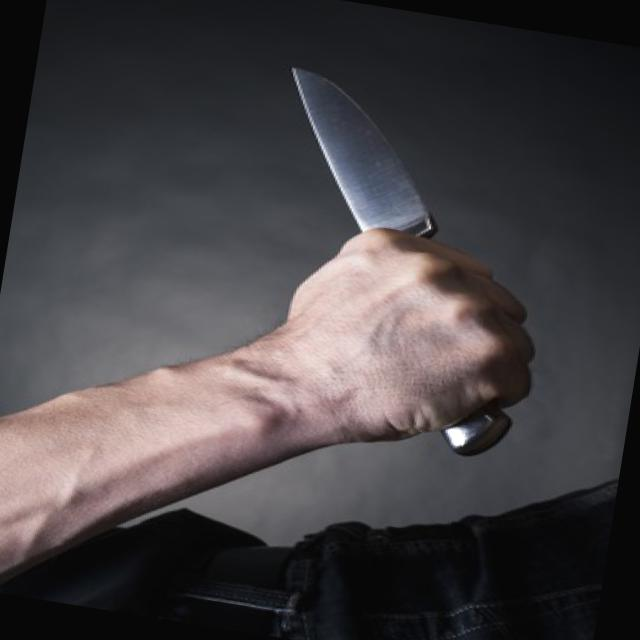knife: (227, 56, 566, 406)
